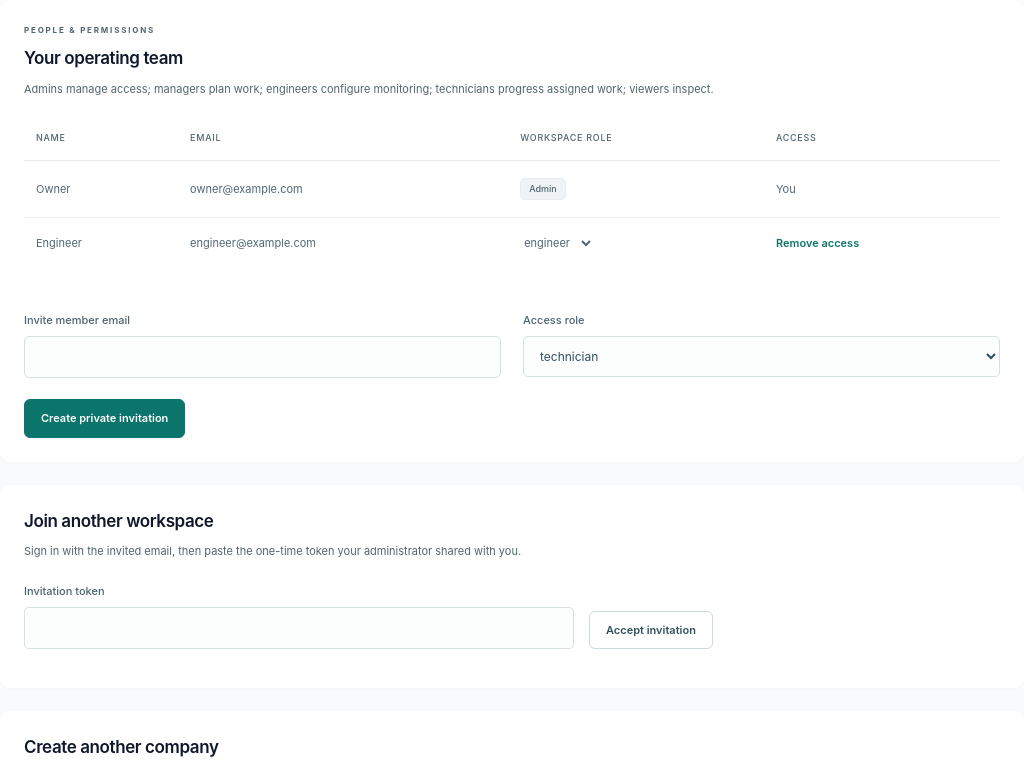
Test case: team access and integration controls › creates a private invitation and dismisses its one-time display
Type " invited@example.com " into the field labelled "Invite member email" at (262,358), box [24, 336, 501, 378]
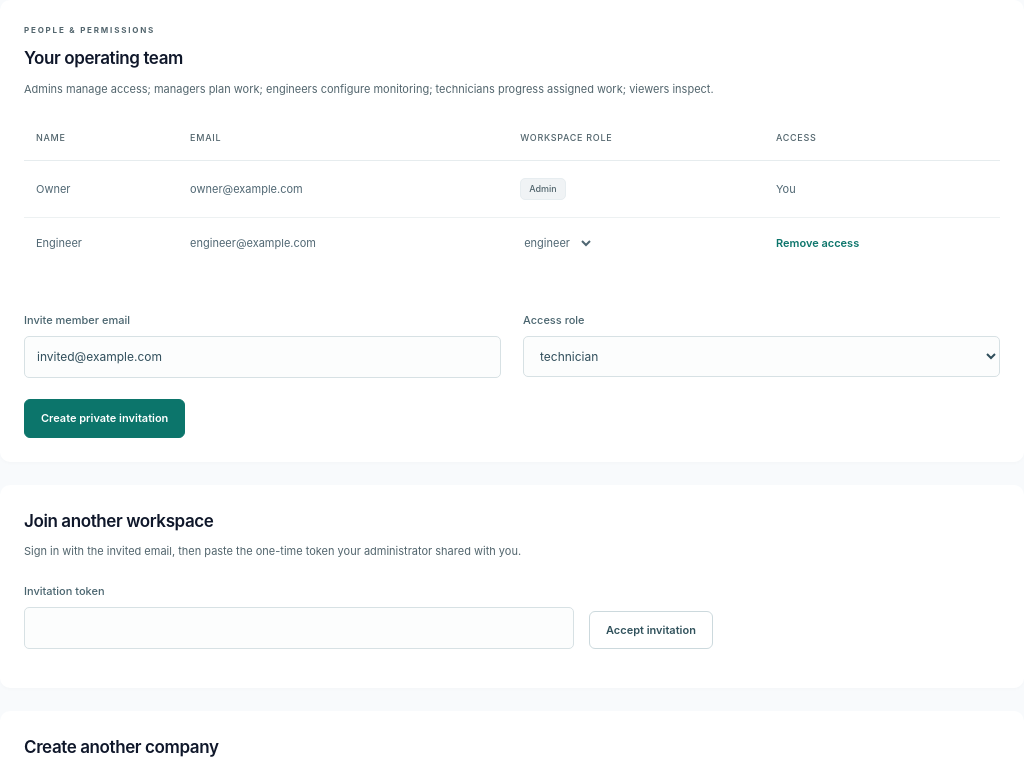
Click the button "Create private invitation" at (105,419), box [24, 400, 185, 438]
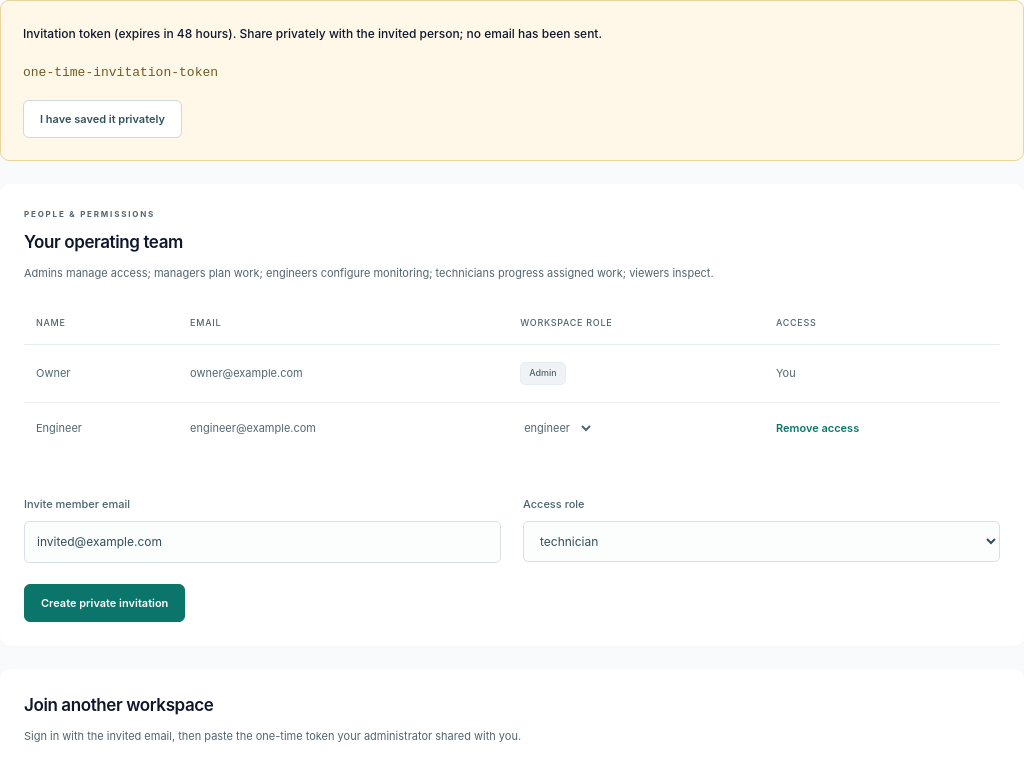
Check: the text "one-time-invitation-token" is shown, box [23, 65, 218, 80]
Click the button "I have saved it privately" at (102,119), box [23, 100, 182, 138]
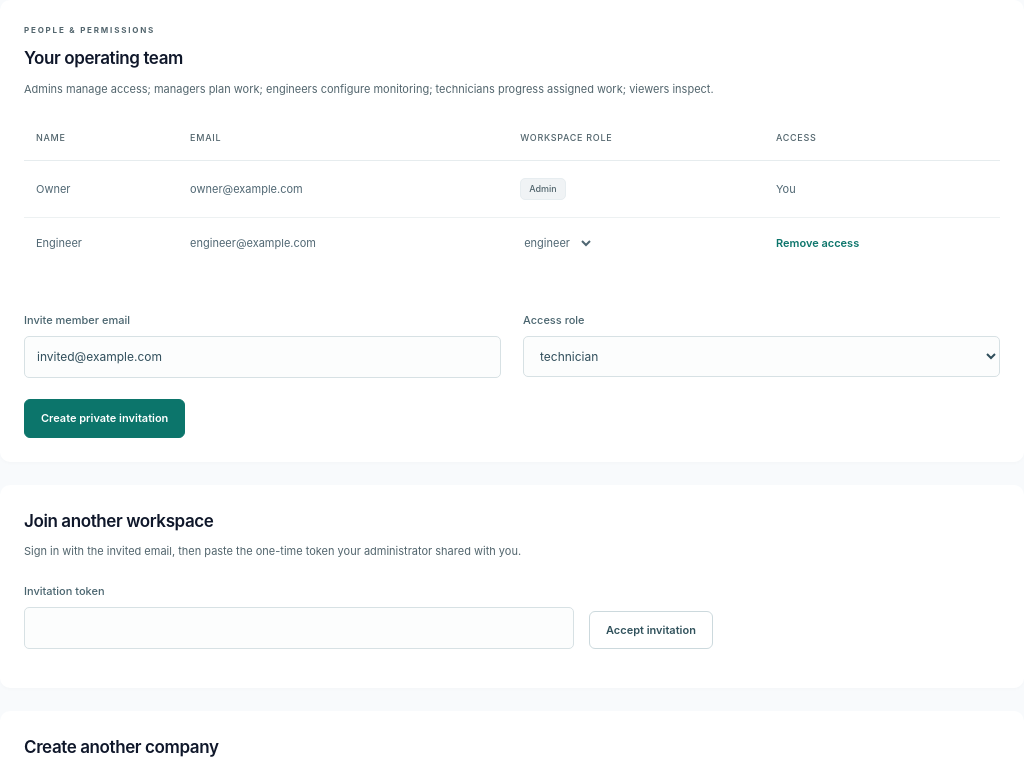
Check: the text "one-time-invitation-token" is gone
